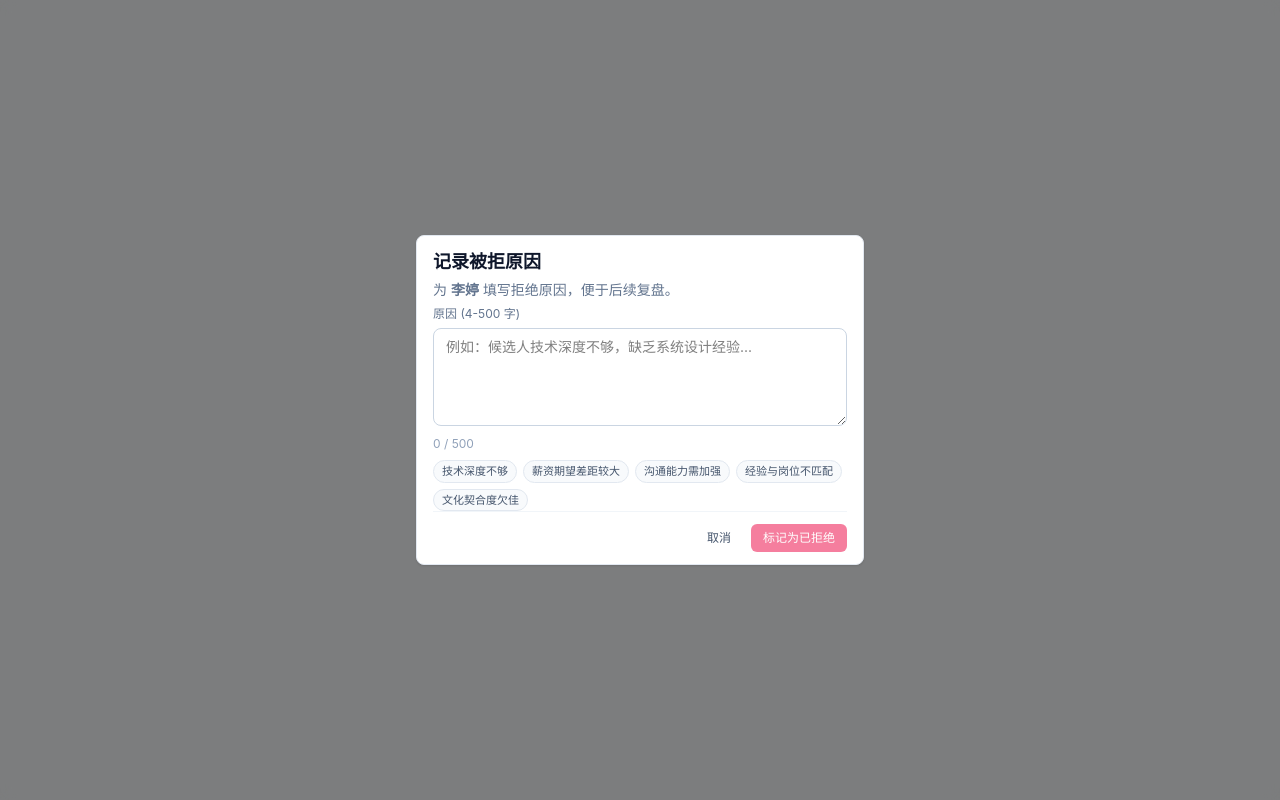
Scenario: RejectReasonModal UI › clicking a suggestion chip fills the textarea
Click the button with test id "reject-reason-suggestion-技术深度不够" at (475, 471), box [433,460,517,482]
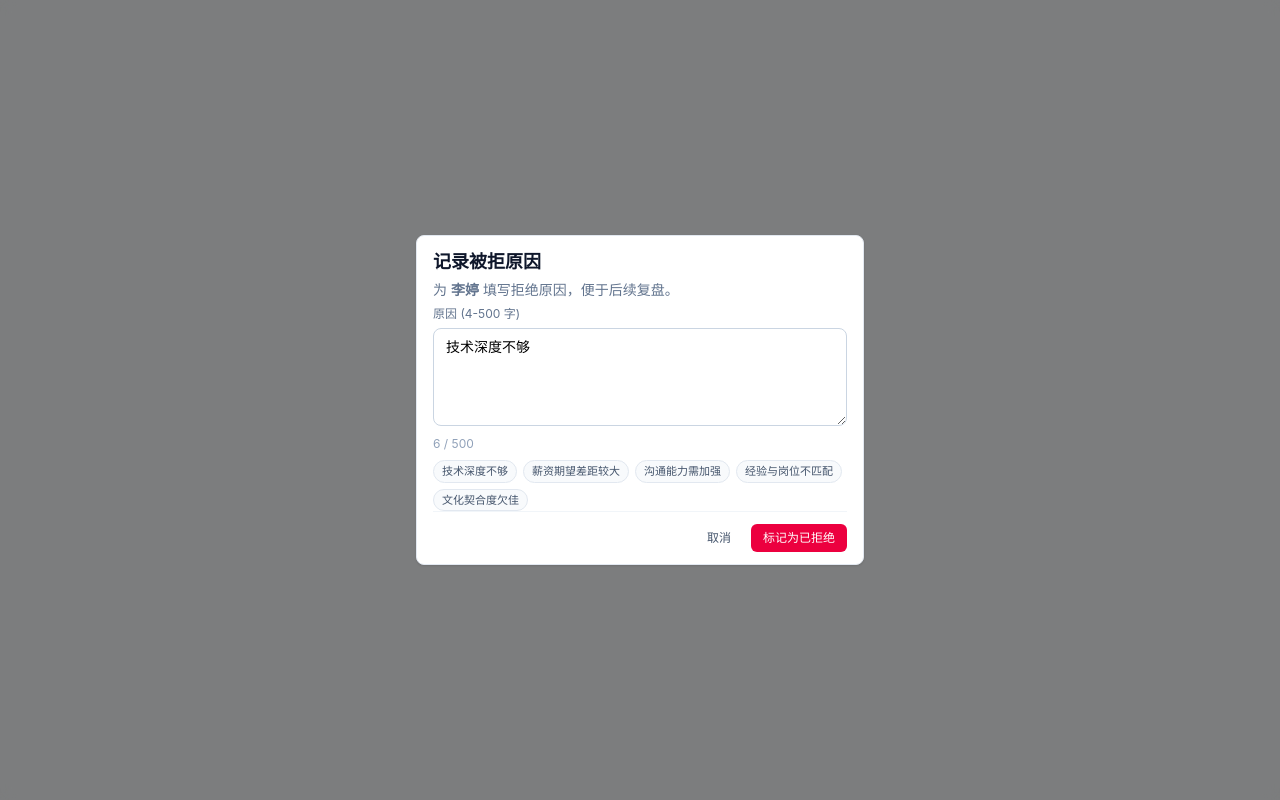
expect the text box with test id "reject-reason-textarea" holds "技术深度不够": met, box [433,328,847,426]
